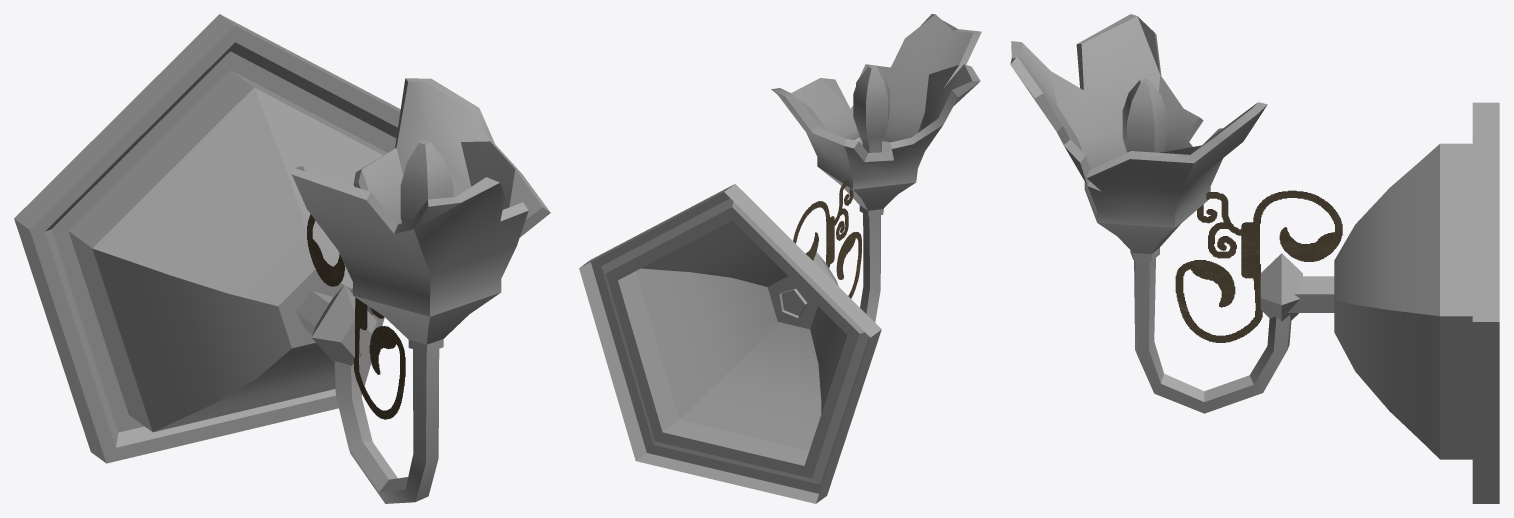
The model's file is Prop_LampB.fbx.
The picture shows the model from 3 angles, left to right: view 1: azimuth 30°, elevation 25°; view 2: azimuth 150°, elevation 25°; view 3: azimuth 270°, elevation 25°; orthographic projection. The views are drawn at different scales.
Parts seen in each view (by area): view 1: Mesh; view 2: Mesh; view 3: Mesh.
Part boxes in pixels (x1,y1,x2,y2): Mesh: [14, 14, 550, 503]; Mesh: [579, 14, 981, 503]; Mesh: [1010, 14, 1499, 503].
Bounding box in the file's own units: 24.65 × 26.19 × 29.82.
